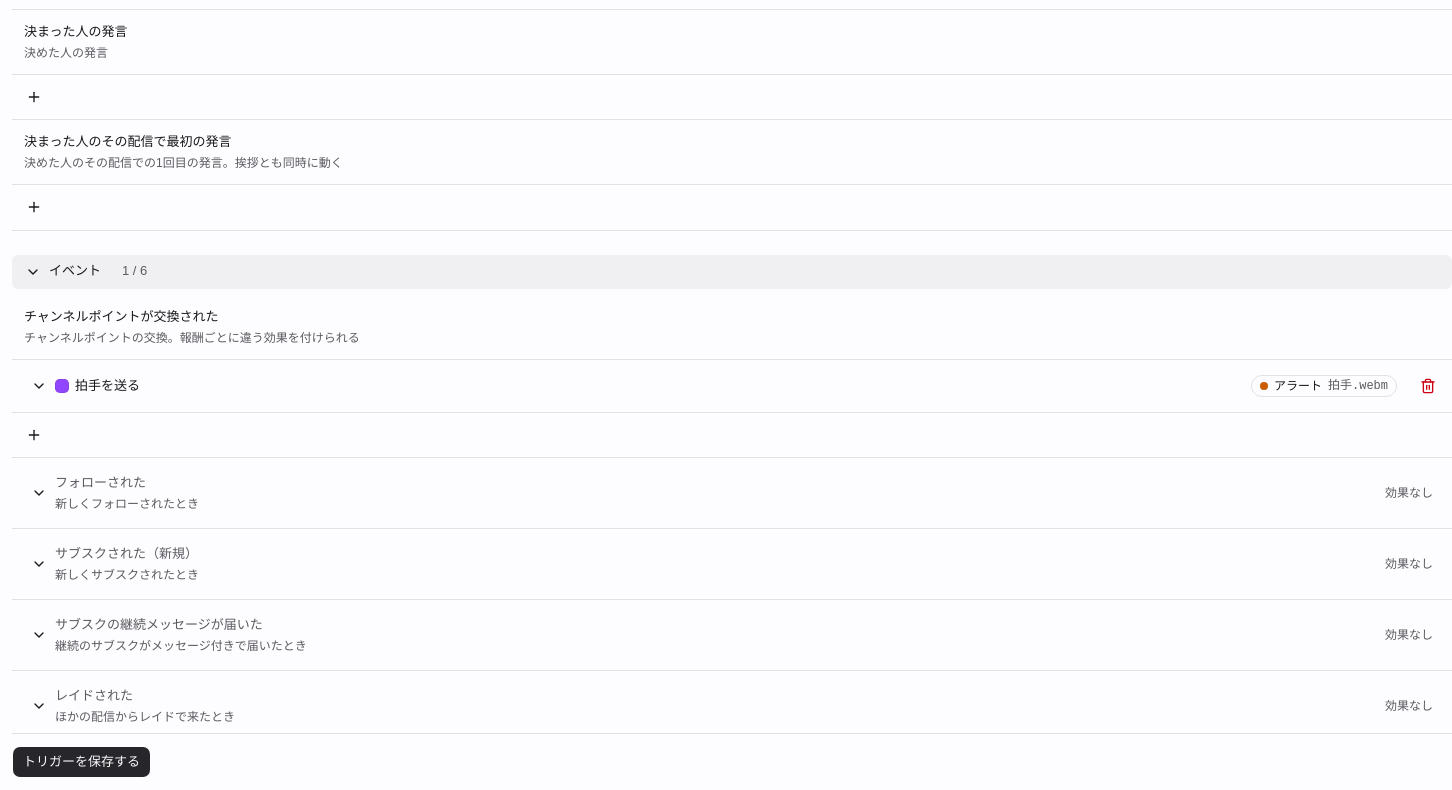
Test: 効果の付け外し › 保存済みの効果を入力欄に出す（音量は百分率）
(page scrolled)
Click the button named "チャンネルポイントが交換されたの1番目の設定:": (170,395) [20,368,1408,404]
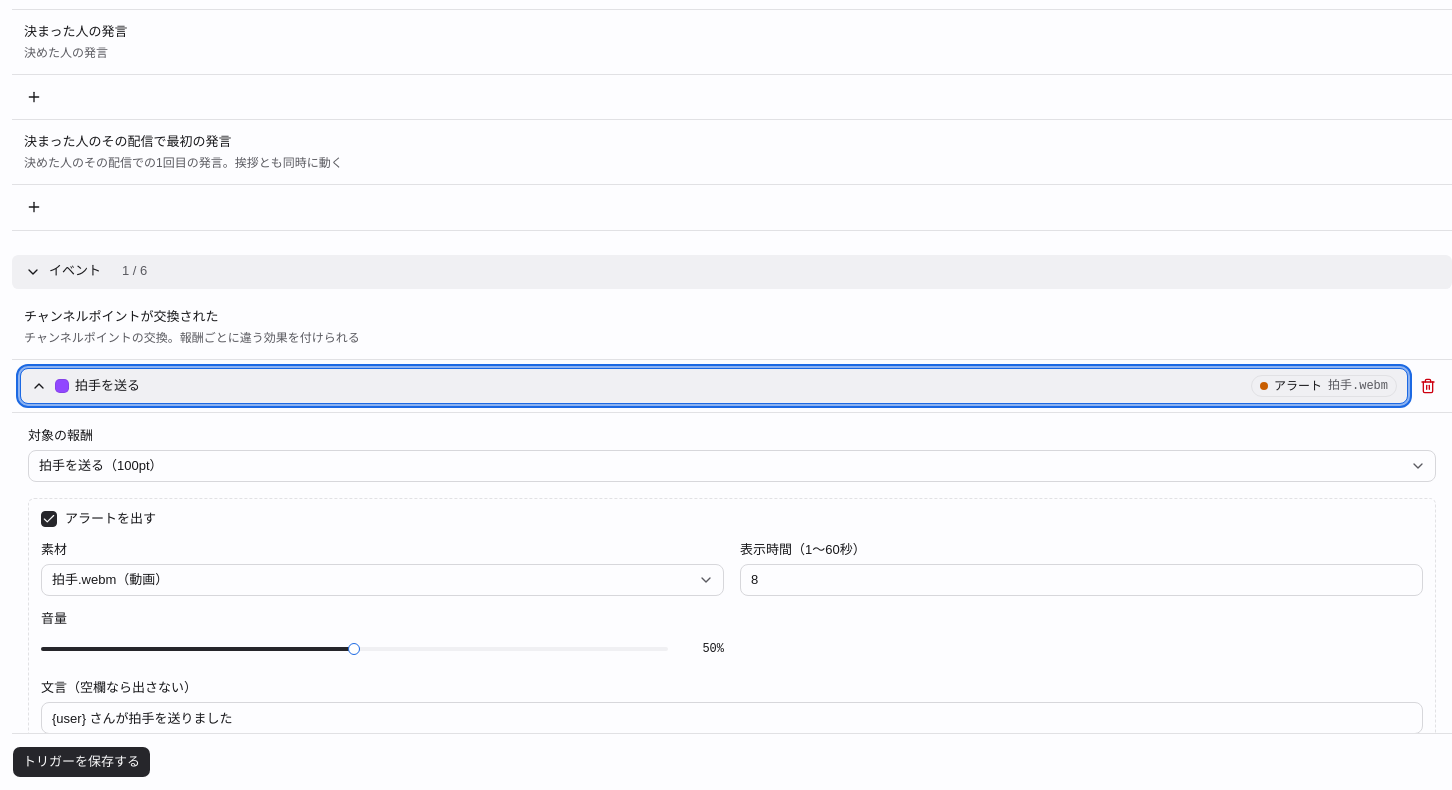
Now the dropdown labelled "対象の報酬" shows "拍手を送る（100pt）", box [28,450,1436,482]
Now the dropdown labelled "素材" shows "拍手.webm（動画）", box [41,564,724,596]
Now the number field labelled "表示時間（1〜60秒）" holds "8", box [740,564,1423,596]
